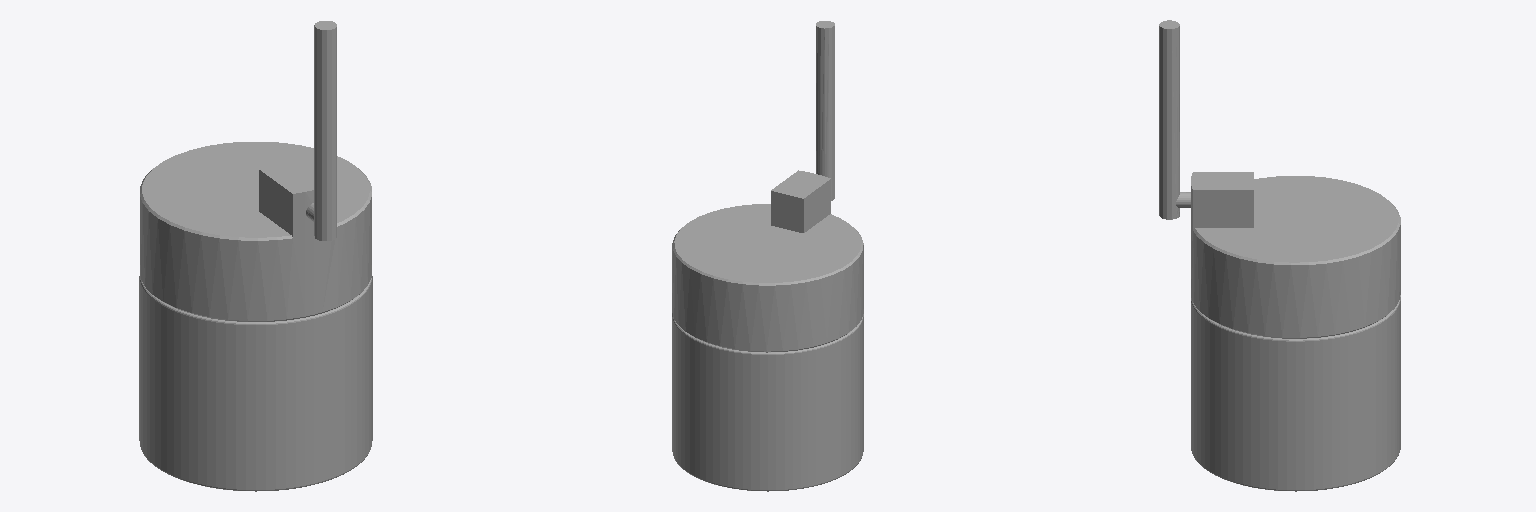
robot.urdf — huruta_pendulum_description:
<?xml version="1.0" encoding="utf-8"?>
<!-- This URDF was automatically created by SolidWorks to URDF Exporter! Originally created by [author] ([email redacted]) 
     Commit Version: 1.5.1-0-g916b5db  Build Version: 1.5.7152.31018
     For more information, please see http://wiki.ros.org/sw_urdf_exporter -->
<robot
  name="huruta_pendulum_description">
  <link
    name="base_link">
    <inertial>
      <origin
        xyz="0 0.04 -2.7194E-18"
        rpy="0 0 0" />
      <mass
        value="4.9312" />
      <inertia
        ixx="0.0057103"
        ixy="-1.7942E-35"
        ixz="0"
        iyy="0.0061628"
        iyz="0"
        izz="0.0057103" />
    </inertial>
    <visual>
      <origin
        xyz="0 0 0"
        rpy="0 0 0" />
      <geometry>
        <mesh
          filename="package://huruta_pendulum_description/meshes/base_link.STL" />
      </geometry>
      <material
        name="">
        <color
          rgba="0.69804 0.69804 0.69804 1" />
      </material>
    </visual>
    <collision>
      <origin
        xyz="0 0 0"
        rpy="0 0 0" />
      <geometry>
        <mesh
          filename="package://huruta_pendulum_description/meshes/base_link.STL" />
      </geometry>
    </collision>
  </link>
  <link
    name="base_motor">
    <inertial>
      <origin
        xyz="5.2234E-11 -0.020959 0.0011139"
        rpy="0 0 0" />
      <mass
        value="0.15498" />
      <inertia
        ixx="0.00012432"
        ixy="2.3358E-13"
        ixz="-3.749E-13"
        iyy="0.00019371"
        iyz="5.011E-06"
        izz="0.00011832" />
    </inertial>
    <visual>
      <origin
        xyz="0 0 0"
        rpy="0 0 0" />
      <geometry>
        <mesh
          filename="package://huruta_pendulum_description/meshes/base_motor.STL" />
      </geometry>
      <material
        name="">
        <color
          rgba="0.69804 0.69804 0.69804 1" />
      </material>
    </visual>
    <collision>
      <origin
        xyz="0 0 0"
        rpy="0 0 0" />
      <geometry>
        <mesh
          filename="package://huruta_pendulum_description/meshes/base_motor.STL" />
      </geometry>
    </collision>
  </link>
  <joint
    name="motor_joint"
    type="continuous">
    <origin
      xyz="0 0 0.08"
      rpy="-1.5708 0 -3.1416" />
    <parent
      link="base_link" />
    <child
      link="base_motor" />
    <axis
      xyz="0 1 0" />
    <limit
      effort="3"
      velocity="30" />
    <dynamics
      damping="0.001"
      friction="0.001" />
  </joint>
  <link
    name="pendulum">
    <inertial>
      <origin
        xyz="1.7396E-07 0.034235 -0.035881"
        rpy="0 0 0" />
      <mass
        value="0.075639" />
      <inertia
        ixx="7.9049E-05"
        ixy="1.4719E-10"
        ixz="-1.6304E-10"
        iyy="7.9494E-06"
        iyz="1.0665E-05"
        izz="7.1984E-05" />
    </inertial>
    <visual>
      <origin
        xyz="0 0 0"
        rpy="0 0 0" />
      <geometry>
        <mesh
          filename="package://huruta_pendulum_description/meshes/pendulum.STL" />
      </geometry>
      <material
        name="">
        <color
          rgba="0.69804 0.69804 0.69804 1" />
      </material>
    </visual>
    <collision>
      <origin
        xyz="0 0 0"
        rpy="0 0 0" />
      <geometry>
        <mesh
          filename="package://huruta_pendulum_description/meshes/pendulum.STL" />
      </geometry>
    </collision>
  </link>
  <joint
    name="free_joint"
    type="continuous">
    <origin
      xyz="0 -0.05 0.02"
      rpy="3.1416 0 0" />
    <parent
      link="base_motor" />
    <child
      link="pendulum" />
    <axis
      xyz="0 0 1" />
    <limit
      effort="0"
      velocity="100" />
    <dynamics
      damping="0.0001"
      friction="0.0001" />
  </joint>

  <gazebo>
    <plugin filename="libgazebo_ros_control.so" name="gazebo_ros_control">
      <robotSimType>gazebo_ros_control/DefaultRobotHWSim</robotSimType>
      <legacyModeNS>true</legacyModeNS>
    </plugin>
  </gazebo>

  <transmission name="motor_joint_tran">
    <type>transmission_interface/SimpleTransmission</type>
    <joint name="motor_joint">
      <hardwareInterface>hardware_interface/EffortJointInterface</hardwareInterface>
    </joint>
    <actuator name="motor_joint_motor">
      <hardwareInterface>hardware_interface/EffortJointInterface</hardwareInterface>
      <mechanicalReduction>1</mechanicalReduction>
    </actuator>
  </transmission>
  <transmission name="free_joint_tran">
    <type>transmission_interface/SimpleTransmission</type>
    <joint name="free_joint">
      <hardwareInterface>hardware_interface/EffortJointInterface</hardwareInterface>
    </joint>
    <actuator name="free_joint_motor">
      <hardwareInterface>hardware_interface/EffortJointInterface</hardwareInterface>
      <mechanicalReduction>1</mechanicalReduction>
    </actuator>
  </transmission>
  <gazebo>
    <plugin filename="libgazebo_ros_joint_state_publisher.so" name="joint_state_publisher">
      <jointName> 
        motor_joint, free_joint
      </jointName>
      <updateRate>50.0</updateRate>
    </plugin>
  </gazebo>
</robot>

--- What the picture shows (computed from the rendered views, not written in the file) ---
3 views of the same robot in one strip: view 1: azimuth 30°, elevation 25°; view 2: azimuth 150°, elevation 25°; view 3: azimuth 270°, elevation 25° (orthographic).
Model huruta_pendulum_description with 3 links and 2 joints (2 continuous), rooted at base_link, posed every joint at zero.
Visible links, largest first — view 1: base_link, base_motor, pendulum; view 2: base_link, base_motor, pendulum; view 3: base_link, base_motor, pendulum.
Boxes of the visible links, x1,y1,x2,y2 form: base_link: (139,276,372,491); base_motor: (140,142,371,321); pendulum: (306,21,336,240); base_link: (672,313,863,491); base_motor: (672,170,863,352); pendulum: (781,21,834,218); base_link: (1191,295,1400,491); base_motor: (1191,172,1400,338); pendulum: (1159,20,1190,219).
Size in the robot's own frame: 0.1 by 0.115 by 0.222 metres.
3 mesh visuals loaded from 3 distinct referenced files (3 binary STL).